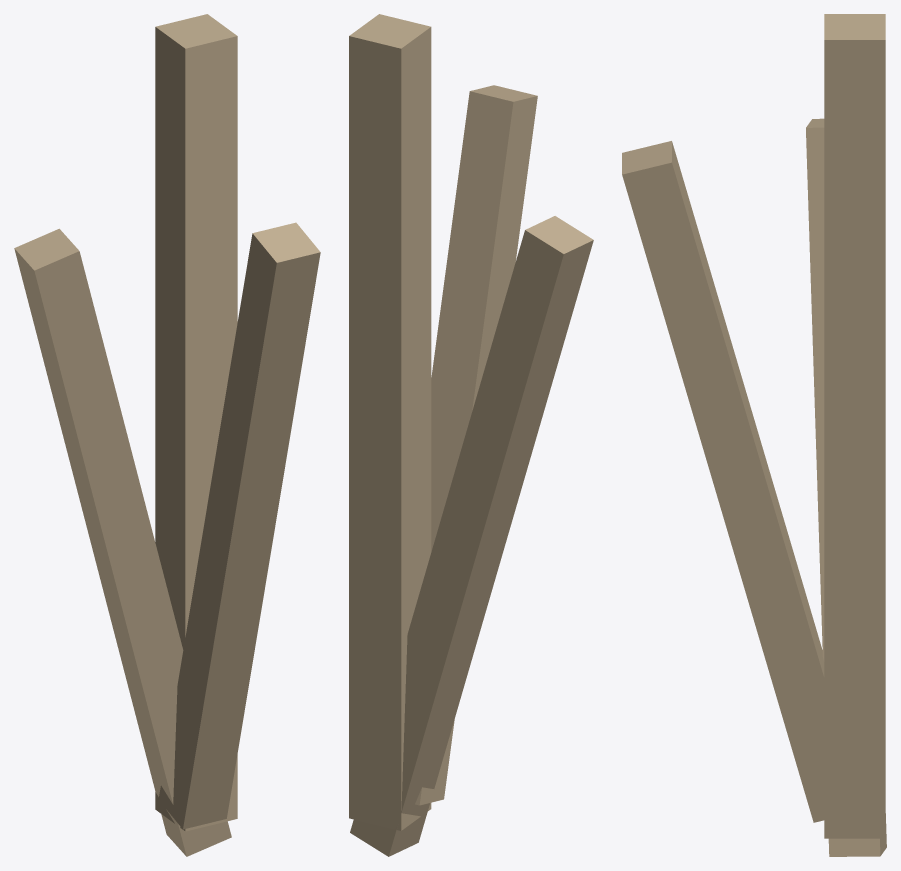
The model's file is dried grass 2.fbx.
The picture shows the model from 3 angles, left to right: view 1: azimuth 30°, elevation 25°; view 2: azimuth 150°, elevation 25°; view 3: azimuth 270°, elevation 25°; orthographic projection. The views are drawn at different scales.
Visible parts, largest first — view 1: dried_grass_1; view 2: dried_grass_1; view 3: dried_grass_1.
Part boxes in pixels (x1=…): dried_grass_1: x1=14, y1=14, x2=320, y2=856; dried_grass_1: x1=349, y1=14, x2=593, y2=856; dried_grass_1: x1=622, y1=14, x2=886, y2=856.
Bounding box in the file's own units: 1.56 × 5.76 × 1.67.
